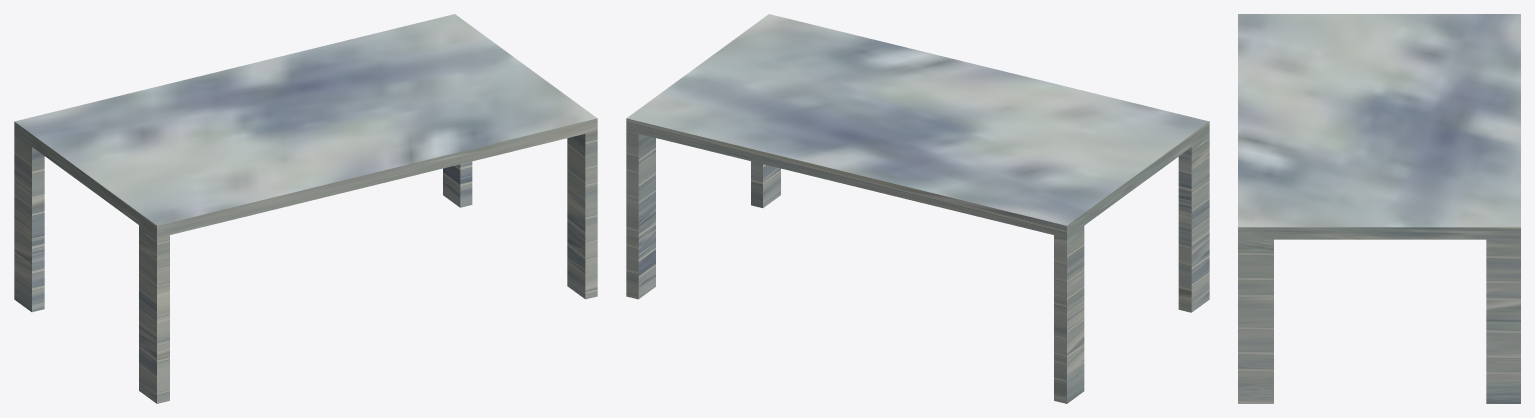
Rendered from Table FBX.fbx.
The picture shows the model from 3 angles, left to right: view 1: azimuth 30°, elevation 25°; view 2: azimuth 150°, elevation 25°; view 3: azimuth 270°, elevation 25°; orthographic projection.
Parts seen in each view (by area): view 1: pCube1; view 2: pCube1; view 3: pCube1.
Part boxes in pixels (<box>): pCube1: <box>14,14,597,403</box>; pCube1: <box>626,14,1209,403</box>; pCube1: <box>1238,14,1520,403</box>.
Bounding box in the file's own units: 7.71 × 2.98 × 4.32.
Materials: 1 (1 with a texture image).
